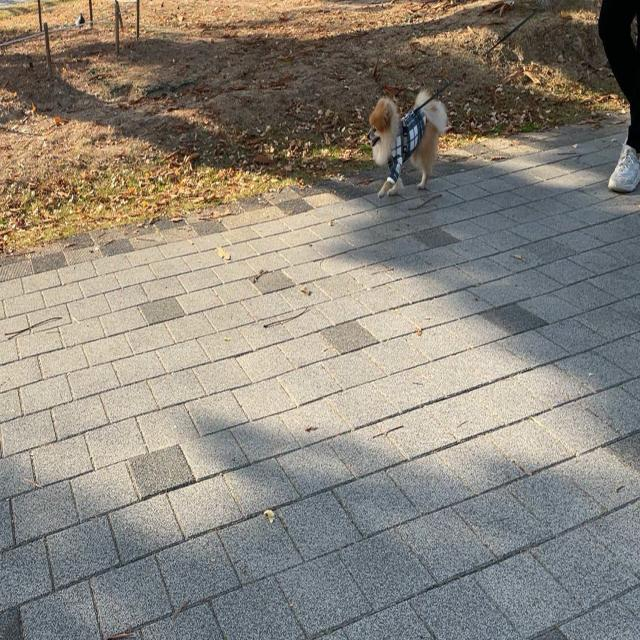Dog: (368, 85, 448, 200)
